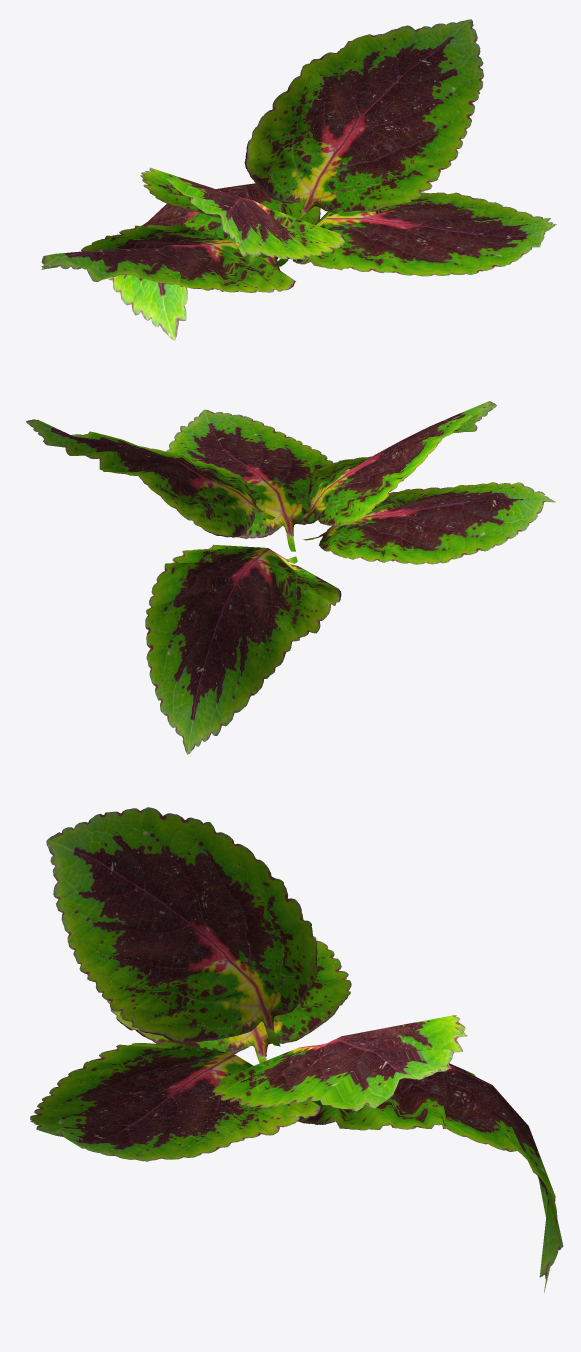
File: Planta3.fbx
The picture shows the model from 3 angles, top to bottom: view 1: azimuth 30°, elevation 25°; view 2: azimuth 150°, elevation 25°; view 3: azimuth 270°, elevation 25°; orthographic projection. The views are drawn at different scales.
Visible parts, largest first — view 1: Plantita_Mamalona21; view 2: Plantita_Mamalona21; view 3: Plantita_Mamalona21.
Boxes of the visible parts, <box> form: Plantita_Mamalona21: <box>41,19,556,340</box>; Plantita_Mamalona21: <box>26,401,555,754</box>; Plantita_Mamalona21: <box>30,807,563,1292</box>.
Size of the model in its own units: 159 by 93.64 by 111.
